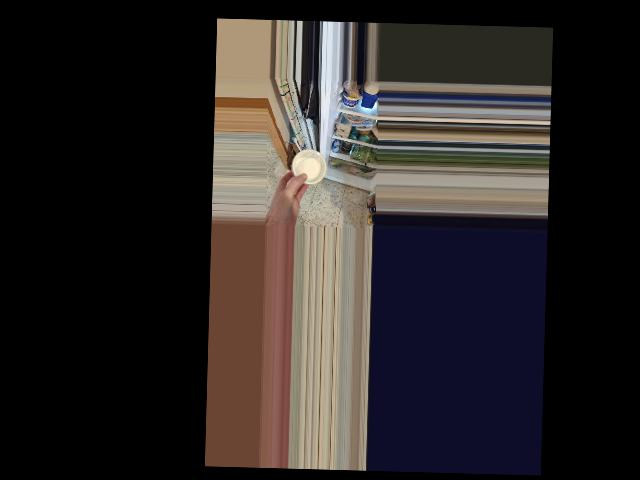cotage: (287, 148, 323, 185)
